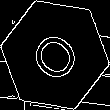O_SE: (23, 22, 87, 88)
